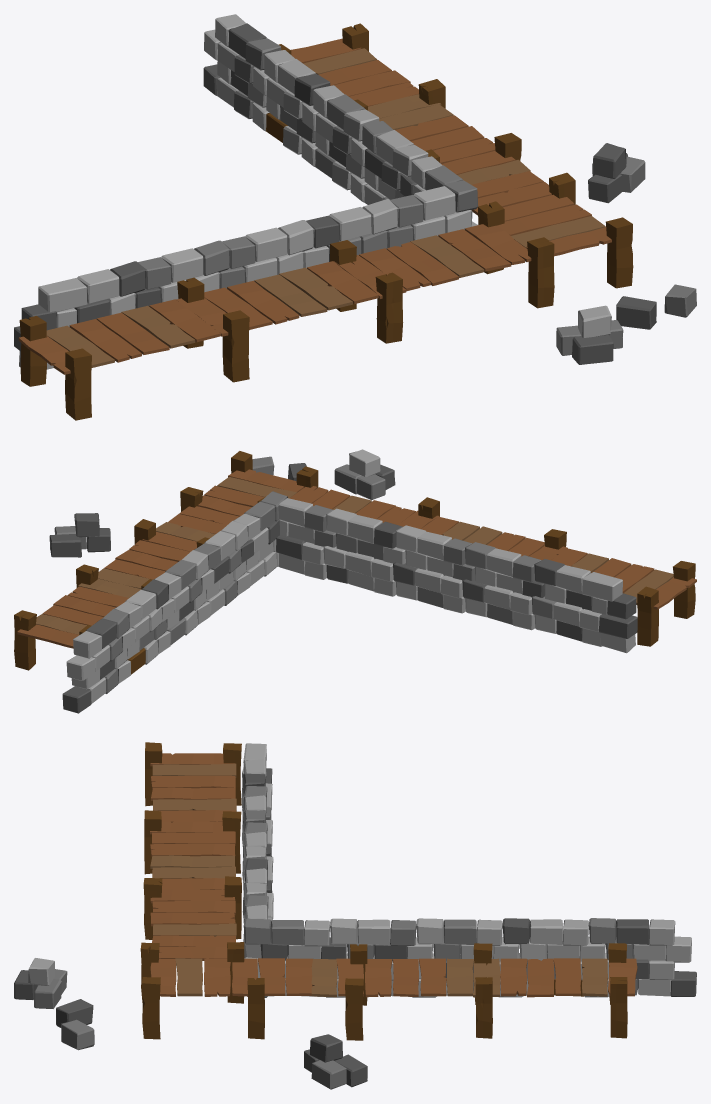
The model's file is 5. Poly buildings.glb.
The picture shows the model from 3 angles, top to bottom: view 1: azimuth 30°, elevation 25°; view 2: azimuth 150°, elevation 25°; view 3: azimuth 270°, elevation 25°; orthographic projection. The views are drawn at different scales.
Visible parts, largest first — view 1: Cube.232, Cube.174, Cube.170, Cube.193, Cube.172, Cube.233, Cube.184, Cube.236, Cube.178, Cube.238, Cube.182, Cube.095 (+63 smaller); view 2: Cube.233, Cube.191, Cube.232, Cube.095, Cube.207, Cube.108, Cube.205, Cube.221, Cube.208, Cube.218, Cube.197, Cube.100 (+68 smaller); view 3: Cube.187, Cube.193, Cube.191, Cube.178, Cube.236, Cube.189, Cube.184, Cube.194, Cube.237, Cube.183, Cube.202, Cube.203 (+62 smaller).
Part boxes in pixels (left/top/right/bottom): Cube.232: left=65, top=348, right=91, bottom=420; Cube.174: left=222, top=310, right=249, bottom=382; Cube.170: left=527, top=237, right=554, bottom=308; Cube.193: left=605, top=217, right=633, bottom=288; Cube.172: left=375, top=272, right=403, bottom=343; Cube.233: left=19, top=316, right=46, bottom=386; Cube.184: left=227, top=280, right=299, bottom=324; Cube.236: left=69, top=319, right=141, bottom=362; Cube.178: left=386, top=242, right=458, bottom=285; Cube.238: left=121, top=305, right=195, bottom=348; Cube.182: left=279, top=267, right=352, bottom=310; Cube.095: left=38, top=278, right=87, bottom=312; Cube.233: left=637, top=586, right=658, bottom=646; Cube.191: left=14, top=610, right=36, bottom=670; Cube.232: left=673, top=561, right=695, bottom=618; Cube.095: left=582, top=572, right=622, bottom=601; Cube.207: left=228, top=469, right=304, bottom=492; Cube.108: left=598, top=614, right=637, bottom=638; Cube.205: left=17, top=624, right=78, bottom=648; Cube.221: left=49, top=534, right=81, bottom=557; Cube.208: left=217, top=476, right=296, bottom=498; Cube.218: left=349, top=449, right=380, bottom=476; Cube.197: left=129, top=540, right=190, bottom=561; Cube.100: left=417, top=531, right=451, bottom=560; Cube.187: left=345, top=978, right=363, bottom=1040; Cube.193: left=142, top=977, right=160, bottom=1039; Cube.191: left=610, top=977, right=627, bottom=1038; Cube.178: left=150, top=912, right=235, bottom=926; Cube.236: left=151, top=775, right=235, bottom=789; Cube.189: left=475, top=977, right=492, bottom=1038; Cube.184: left=150, top=843, right=235, bottom=856; Cube.194: left=247, top=978, right=264, bottom=1039; Cube.237: left=151, top=787, right=235, bottom=800; Cube.183: left=150, top=855, right=234, bottom=868; Cube.202: left=500, top=958, right=527, bottom=996; Cube.203: left=527, top=958, right=554, bottom=997.
Bounding box in the file's own units: 24.43 × 2.77 × 23.91.
